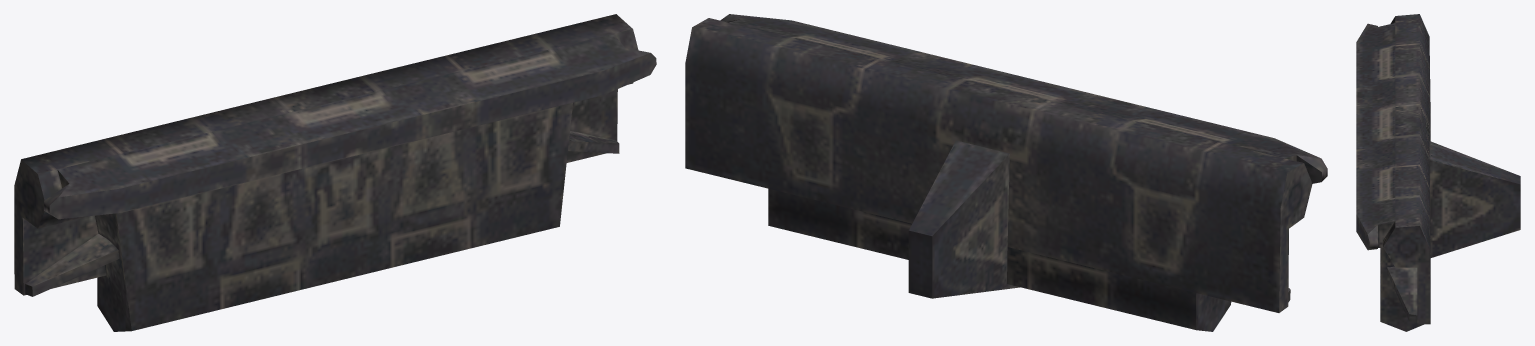
3 views of the same model, side by side, from view 1: azimuth 30°, elevation 25°; view 2: azimuth 150°, elevation 25°; view 3: azimuth 270°, elevation 25° (orthographic). The views are drawn at different scales.
Parts seen in each view (by area): view 1: set_0_group_0; view 2: set_0_group_0; view 3: set_0_group_0.
Boxes of the visible parts, bbox=[...] form: set_0_group_0: bbox=[14, 14, 656, 331]; set_0_group_0: bbox=[685, 14, 1327, 331]; set_0_group_0: bbox=[1356, 14, 1520, 331].
Size of the model in its own units: 0.516 by 0.1515 by 0.1659.
Materials: 1 (1 with a texture image).
